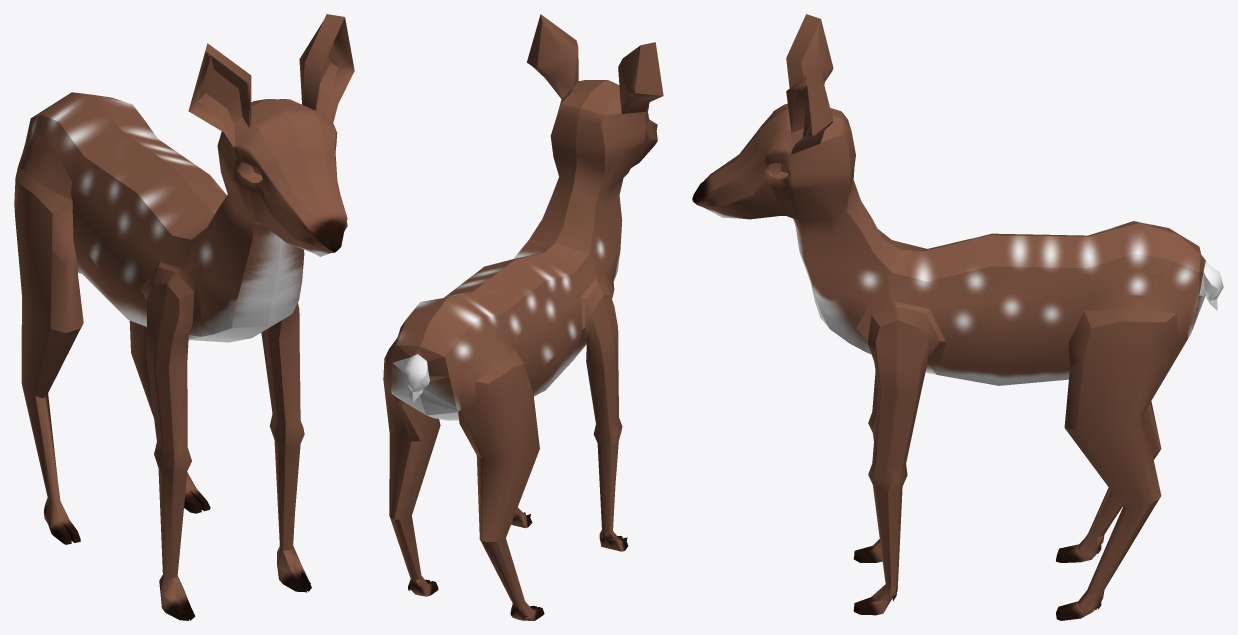
File: Test_Deer_Texture.dae
3 renders of one model, left to right at view 1: azimuth 30°, elevation 25°; view 2: azimuth 150°, elevation 25°; view 3: azimuth 270°, elevation 25°, orthographic. The views are drawn at different scales.
Visible parts, largest first — view 1: polySurface1; view 2: polySurface1; view 3: polySurface1.
Part boxes in pixels (<box>): polySurface1: <box>14,14,354,620</box>; polySurface1: <box>383,14,663,620</box>; polySurface1: <box>692,14,1223,620</box>.
Bounding box in the file's own units: 3.93 × 13.41 × 11.91.
